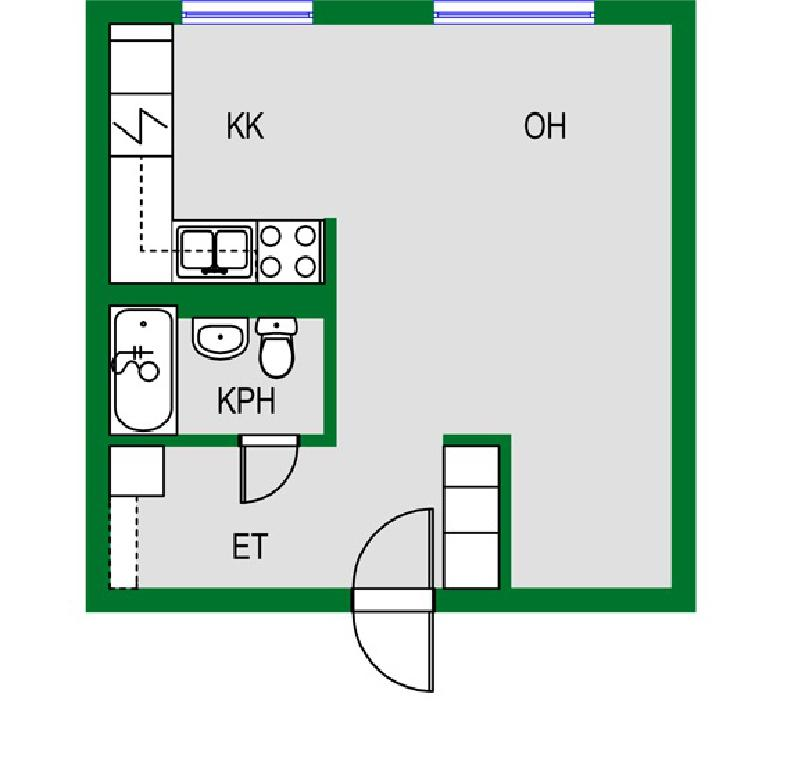door: (349, 499, 446, 701), (242, 439, 296, 501)
window: (433, 1, 592, 25), (183, 1, 312, 25)
zone: (104, 25, 682, 590)
